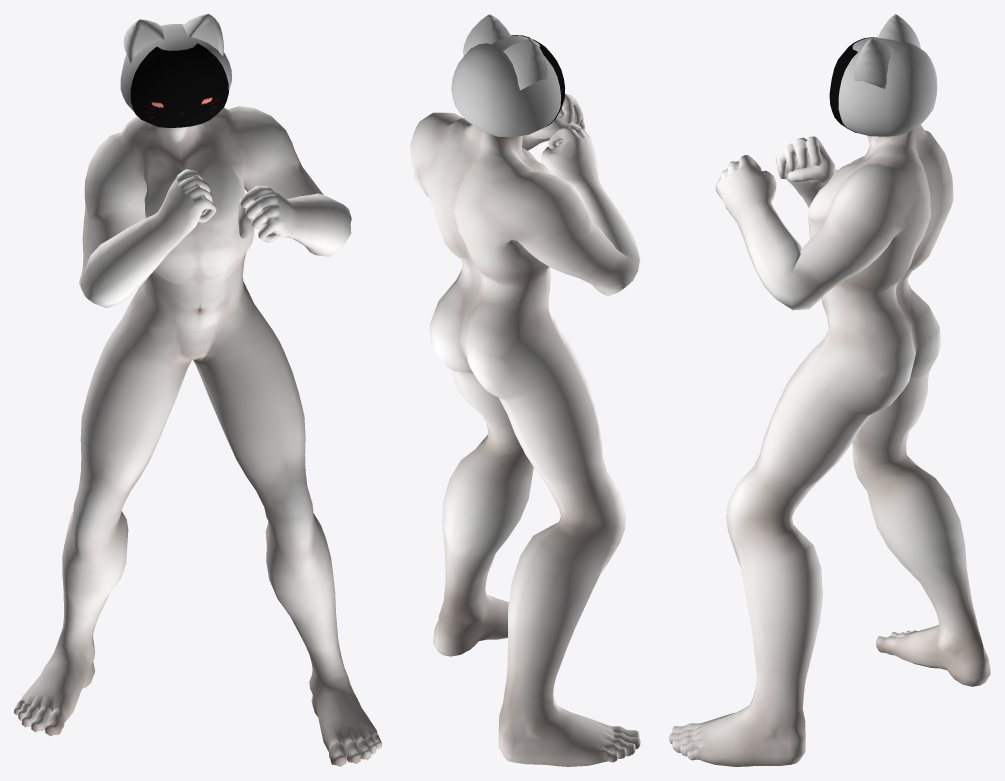
3 renders of one model, left to right at view 1: azimuth 30°, elevation 25°; view 2: azimuth 150°, elevation 25°; view 3: azimuth 270°, elevation 25°, orthographic.
Parts seen in each view (by area): view 1: Muscle_Body, ______?001, Cat_Head; view 2: Muscle_Body, Cat_Head, ______?001; view 3: Muscle_Body, Cat_Head, ______?001.
Boxes of the visible parts, box(x1,y1,x2,y2) form: Muscle_Body: box(14, 106, 381, 766); ______?001: box(130, 43, 228, 127); Cat_Head: box(120, 14, 231, 112); Muscle_Body: box(410, 94, 640, 766); Cat_Head: box(451, 14, 560, 137); ______?001: box(512, 35, 565, 126); Muscle_Body: box(669, 124, 990, 766); Cat_Head: box(838, 14, 937, 136); ______?001: box(829, 37, 873, 132).
Bounding box in the file's own units: 11.43 × 28.14 × 11.98.
